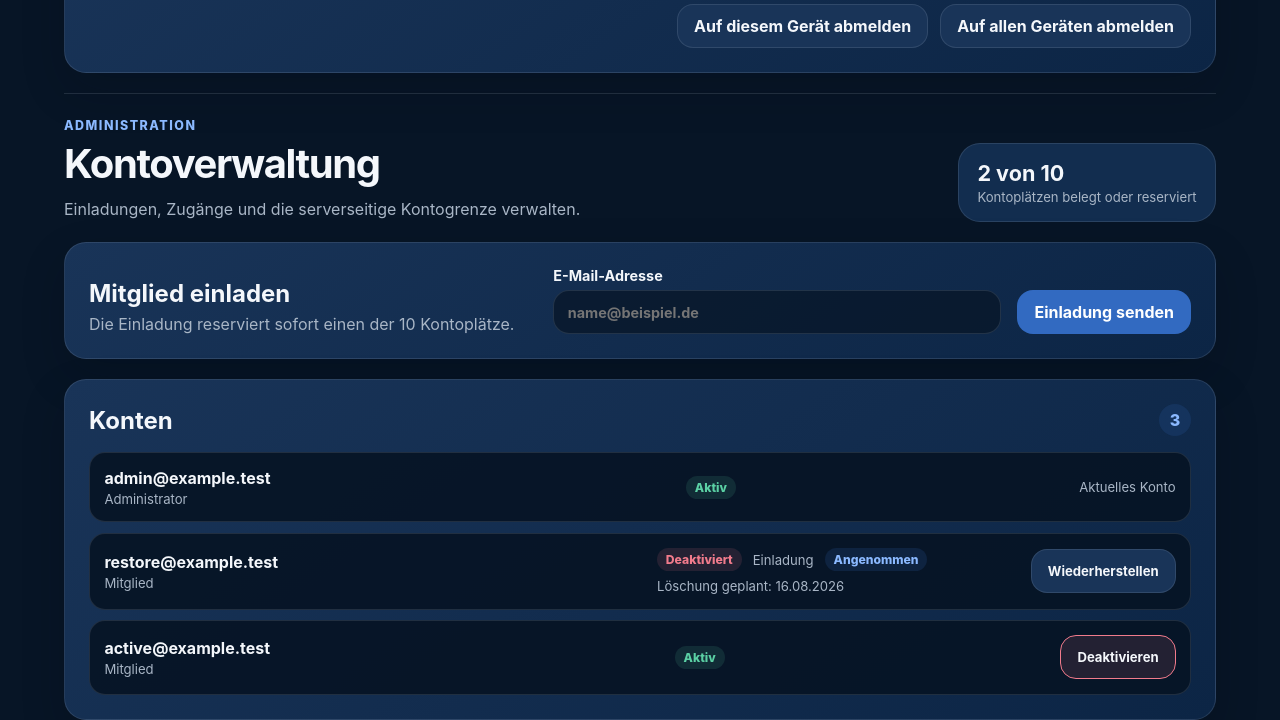
Test: SettingsPage › blocks deactivation while an account restore is pending
(page scrolled)
Click the button "Wiederherstellen" at (1103, 571), box [1031,549,1176,593]
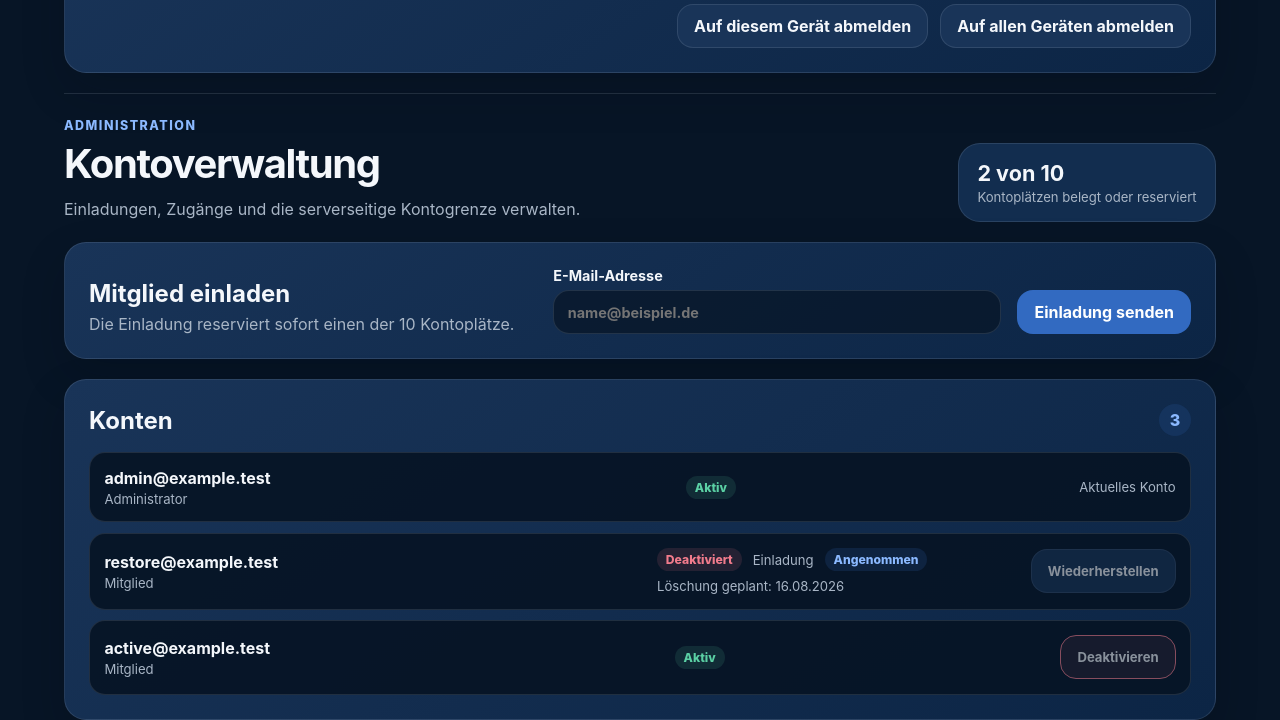
Check: the button with aria-label "Konto von active@example.test deaktivieren" is disabled
Click the button with aria-label "Konto von active@example.test deaktivieren" at (1118, 657), box [1060,635,1176,679]
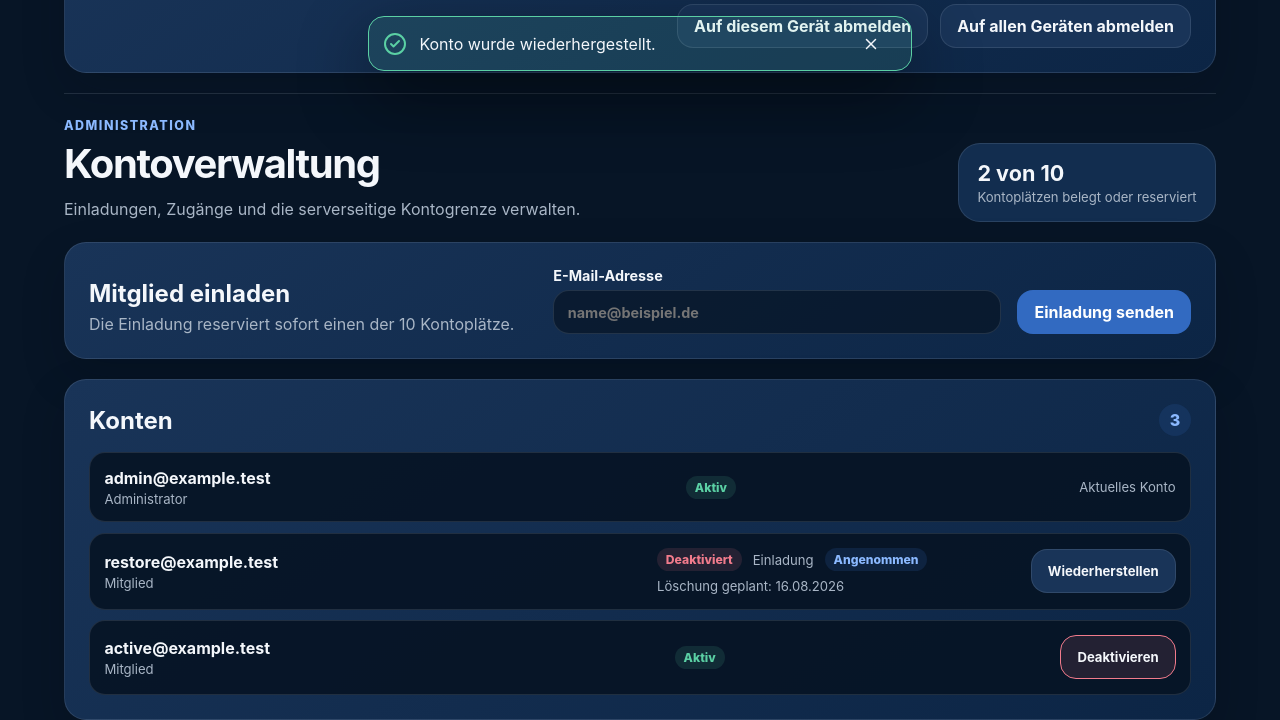
Check: the button with aria-label "Konto von active@example.test deaktivieren" is enabled, box [1060,635,1176,679]
